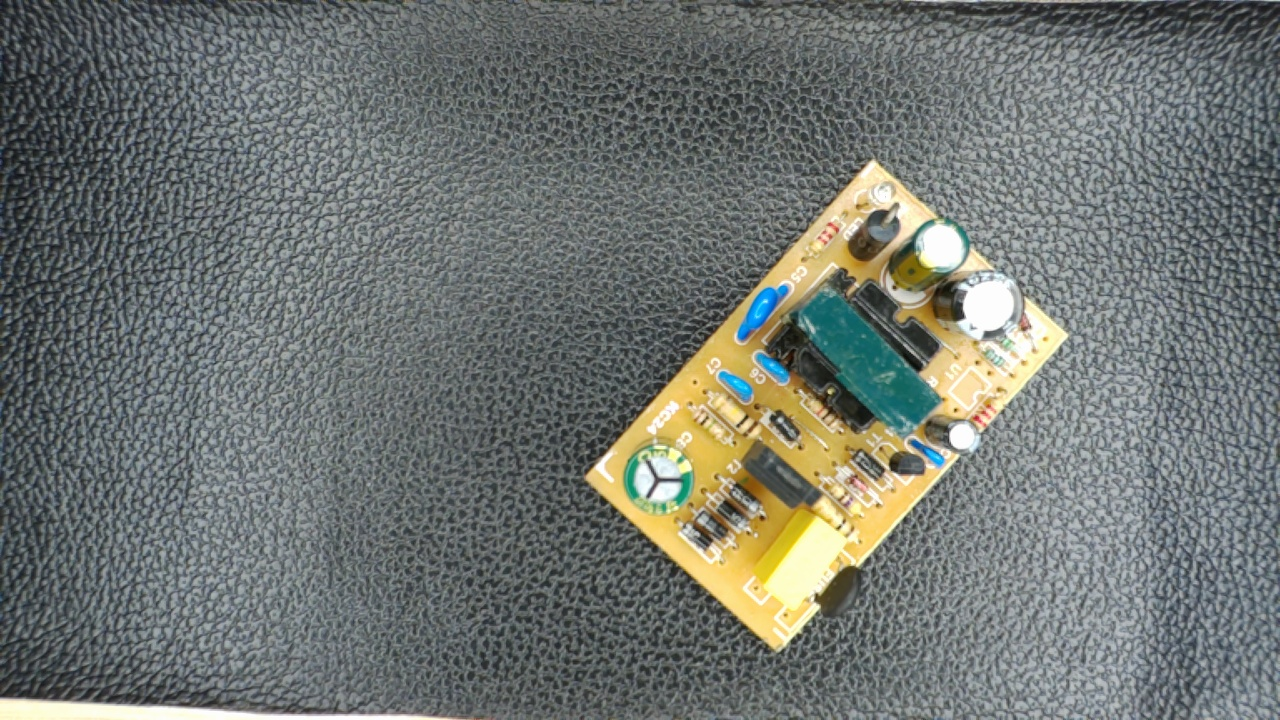fuse: (804, 546, 870, 624)
hv_capacitor: (620, 432, 698, 521)
mov: (731, 278, 794, 344)
